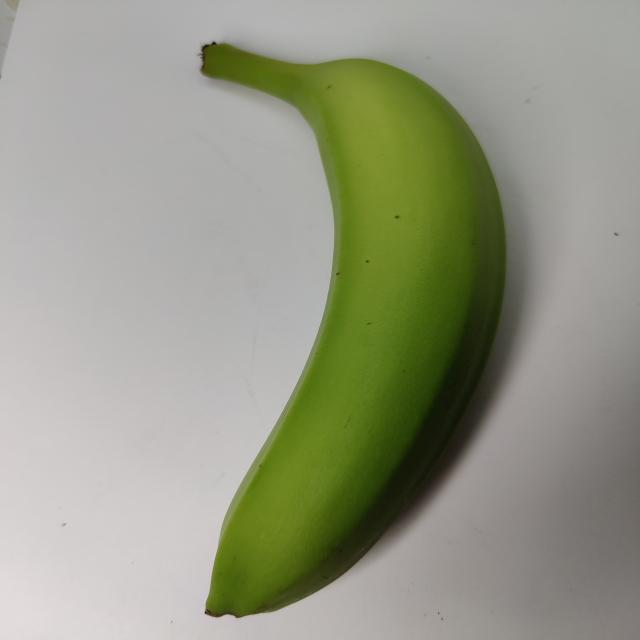raw: (103, 10, 552, 638)
